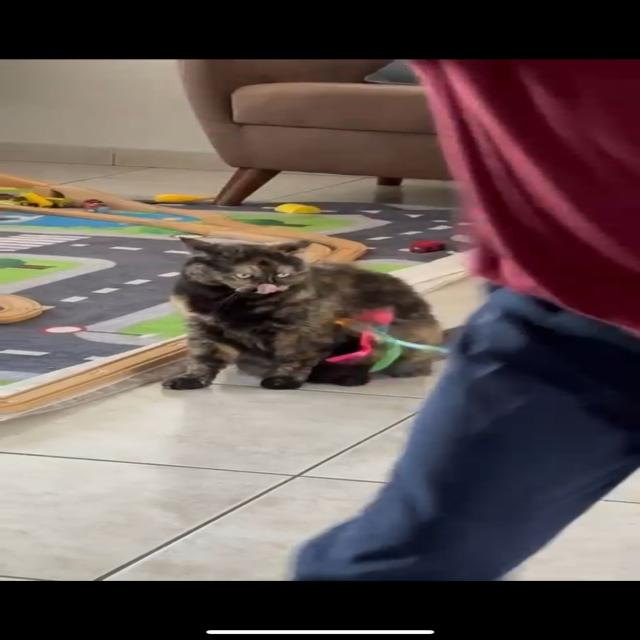authorized: (160, 235, 446, 391)
